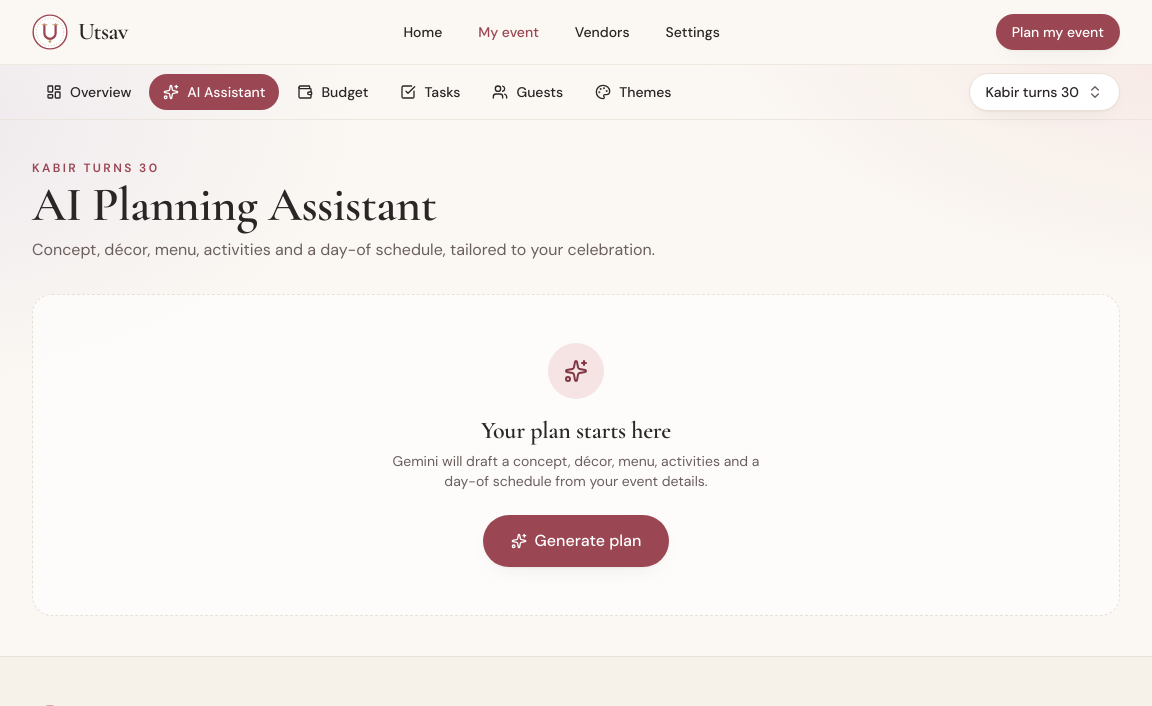
Scenario: AssistantPage › generates a plan: loading status, then sectioned results from Gemini
Click the button "Generate plan": coordinates (576, 541) [483,515,670,567]
(page scrolled)
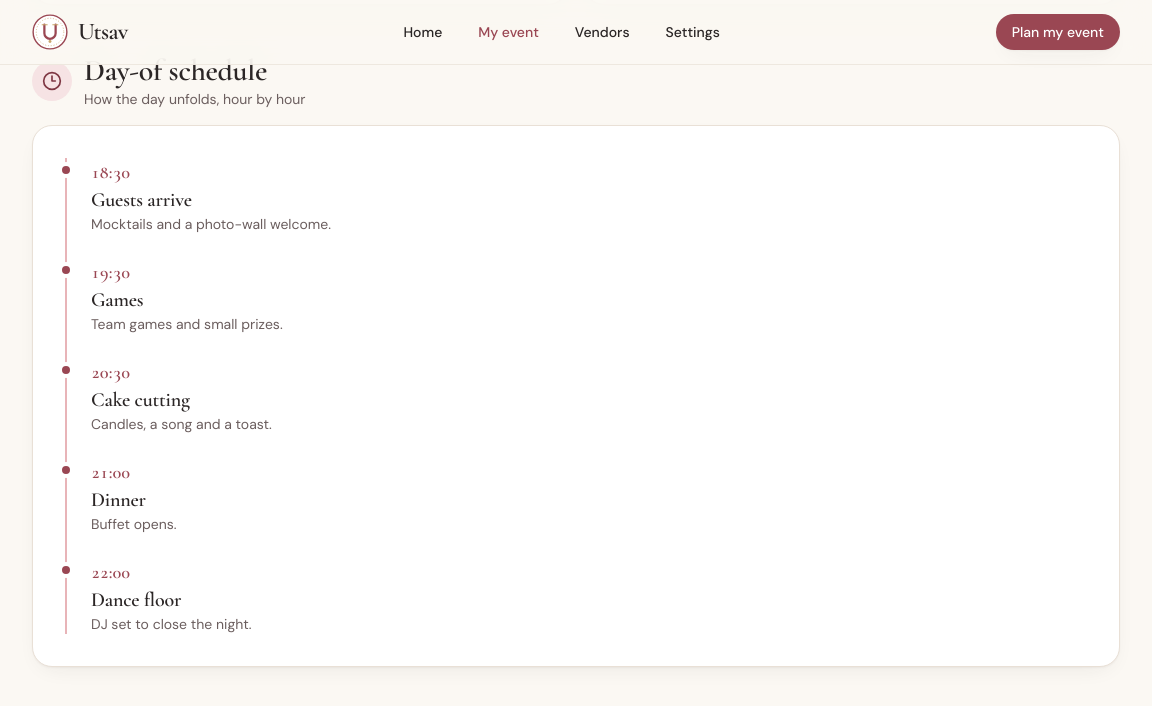
Check: the element "Day-of schedule" is shown
